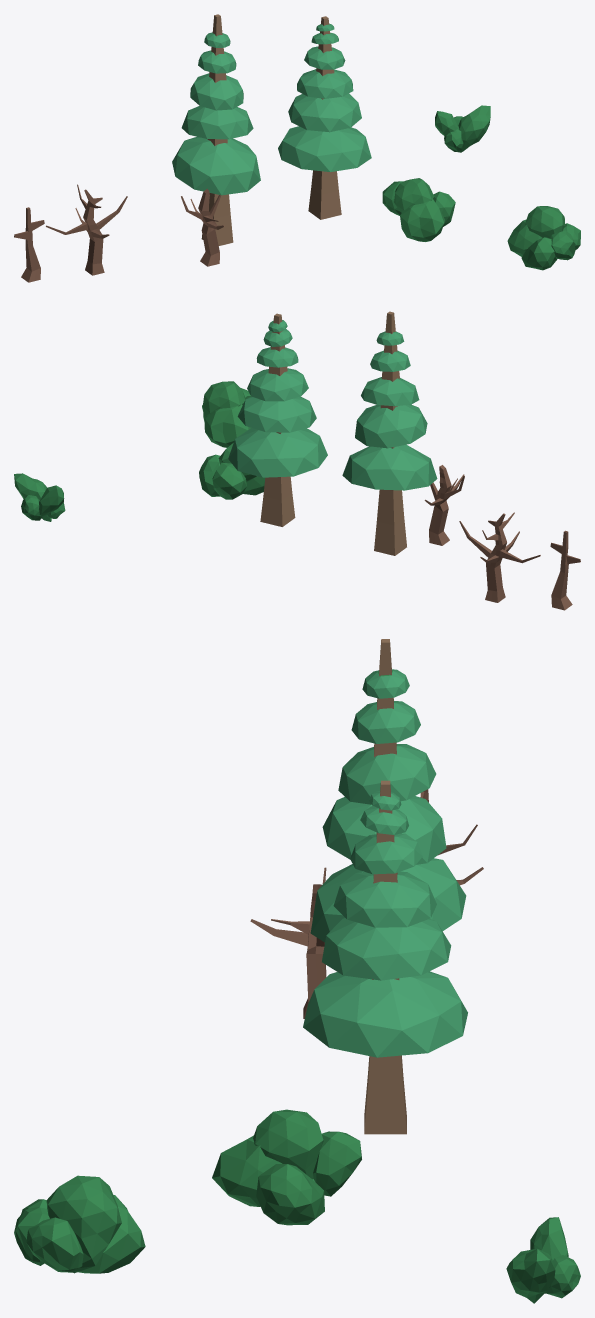
File: dark-forest-2.glb
3 views of the same model, one above another, from view 1: azimuth 30°, elevation 25°; view 2: azimuth 150°, elevation 25°; view 3: azimuth 270°, elevation 25° (orthographic). The views are drawn at different scales.
Visible parts, largest first — view 1: Pine tree, Pine tree 2, Bush 2, Bush 1, Bush 3, Dead tree 1, Dead tree 2, Dead tree 3; view 2: Pine tree 2, Pine tree, Bush 2, Bush 1, Dead tree 1, Bush 3, Dead tree 2, Dead tree 3; view 3: Pine tree 2, Pine tree, Bush 1, Bush 2, Bush 3, Dead tree 2.
Boxes of the visible parts, <box> form: Pine tree: <box>172,14,260,245</box>; Pine tree 2: <box>278,16,371,219</box>; Bush 2: <box>507,206,580,270</box>; Bush 1: <box>382,178,455,241</box>; Bush 3: <box>435,105,490,152</box>; Dead tree 1: <box>46,184,127,275</box>; Dead tree 2: <box>181,188,224,266</box>; Dead tree 3: <box>14,207,44,282</box>; Pine tree 2: <box>228,313,327,526</box>; Pine tree: <box>342,311,437,555</box>; Bush 2: <box>202,381,251,447</box>; Bush 1: <box>199,443,265,499</box>; Dead tree 1: <box>459,512,540,602</box>; Bush 3: <box>14,473,65,521</box>; Dead tree 2: <box>424,465,464,545</box>; Dead tree 3: <box>550,530,580,610</box>; Pine tree 2: <box>303,780,467,1134</box>; Pine tree: <box>310,639,466,942</box>; Bush 1: <box>212,1109,361,1225</box>; Bush 2: <box>14,1175,145,1273</box>; Bush 3: <box>506,1217,580,1303</box>; Dead tree 2: <box>250,867,326,1018</box>.
Bounding box in the file's own units: 92 × 41.86 × 50.6.
